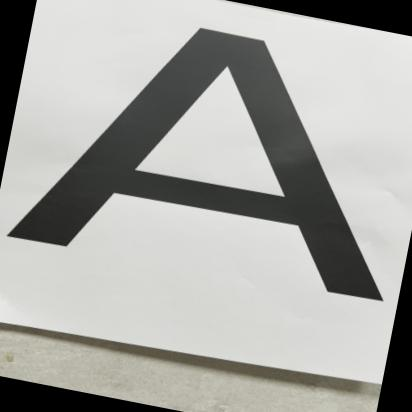seat: (18, 0, 412, 335)
